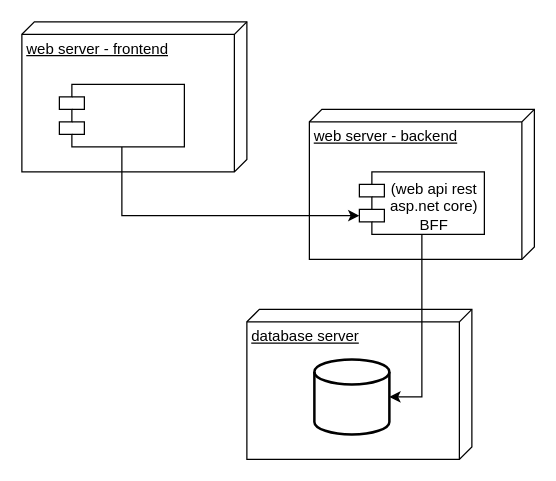
Some shapes in this 556 by 481 pixel diagram are drawn without their labels. Each missing label, with the centre of its shape:
"(Angular) Frontend" belongs at point 121,115.
"rotas_db" belongs at point 351,396.
